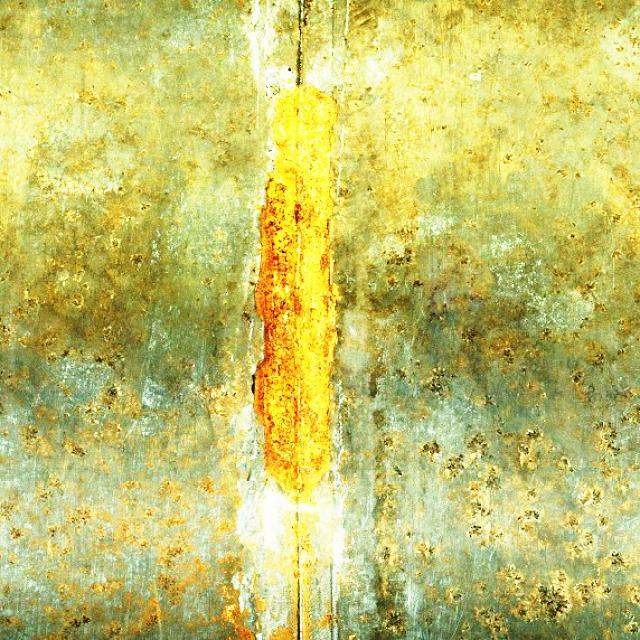Corrosion: (253, 83, 337, 501)
